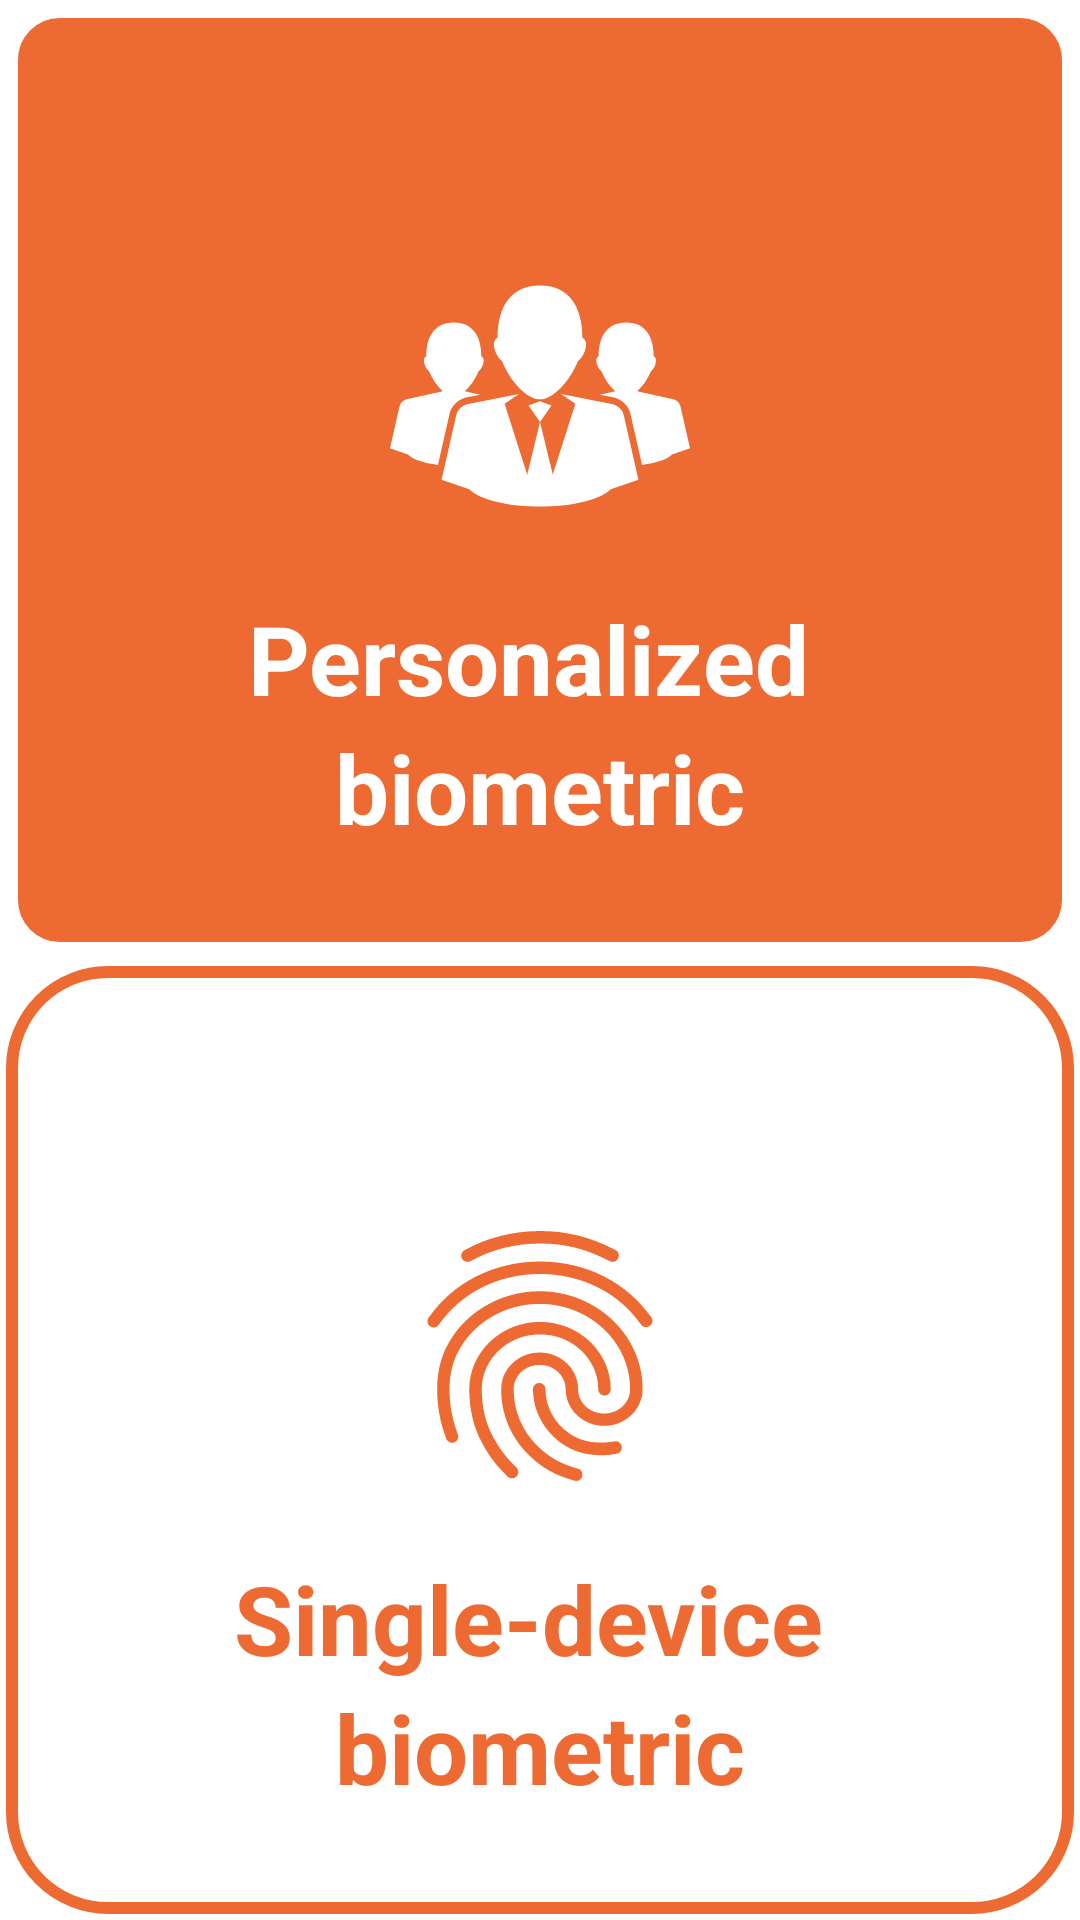

Where icons sit on this 1080px×1920px app screen, as (x1, y1, x2, y2):
business: (390, 285, 690, 507)
fingerprint: (427, 1231, 653, 1481)
